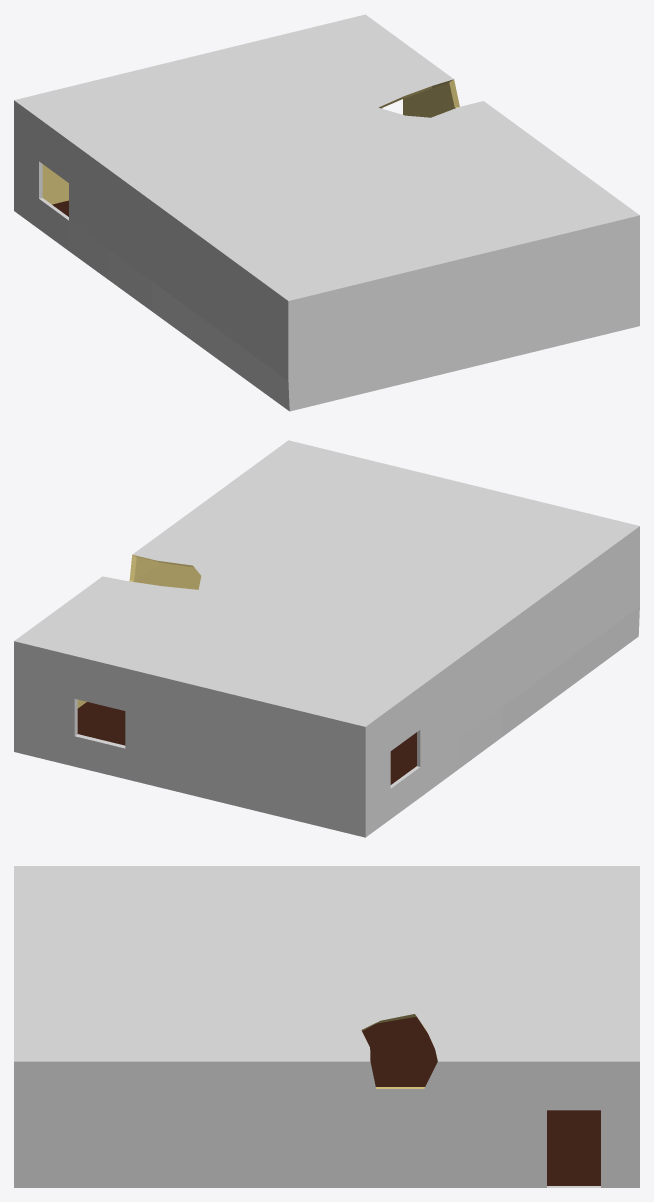
File: stealth-house-broken.glb
3 views of the same model, one above another, from view 1: azimuth 30°, elevation 25°; view 2: azimuth 150°, elevation 25°; view 3: azimuth 270°, elevation 25° (orthographic). The views are drawn at different scales.
Parts seen in each view (by area): view 1: walls; view 2: walls; view 3: walls.
Part boxes in pixels (x1,y1,x2,y2): walls: (14, 14, 639, 411); walls: (14, 440, 639, 837); walls: (14, 866, 639, 1187).
Bounding box in the file's own units: 3.43 × 1.03 × 4.64.
